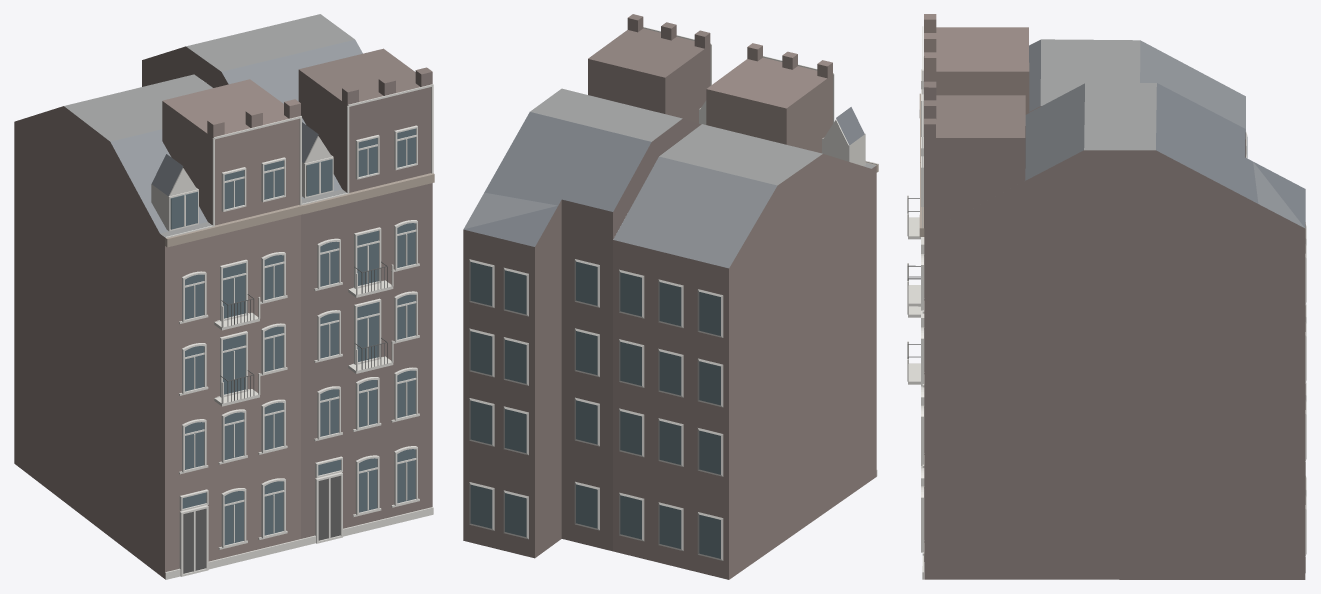
Rendered from chunk-face-helmers-32-66-r1.glb.
3 renders of one model, left to right at view 1: azimuth 30°, elevation 25°; view 2: azimuth 150°, elevation 25°; view 3: azimuth 270°, elevation 25°, orthographic. The views are drawn at different scales.
Parts seen in each view (by area): view 1: face-helmers-32-66-r1; view 2: face-helmers-32-66-r1; view 3: face-helmers-32-66-r1.
Part boxes in pixels (left/top/right/bottom): face-helmers-32-66-r1: left=14, top=14, right=434, bottom=579; face-helmers-32-66-r1: left=463, top=14, right=878, bottom=579; face-helmers-32-66-r1: left=907, top=14, right=1306, bottom=579.
Bounding box in the file's own units: 11.81 × 18.63 × 14.81.
